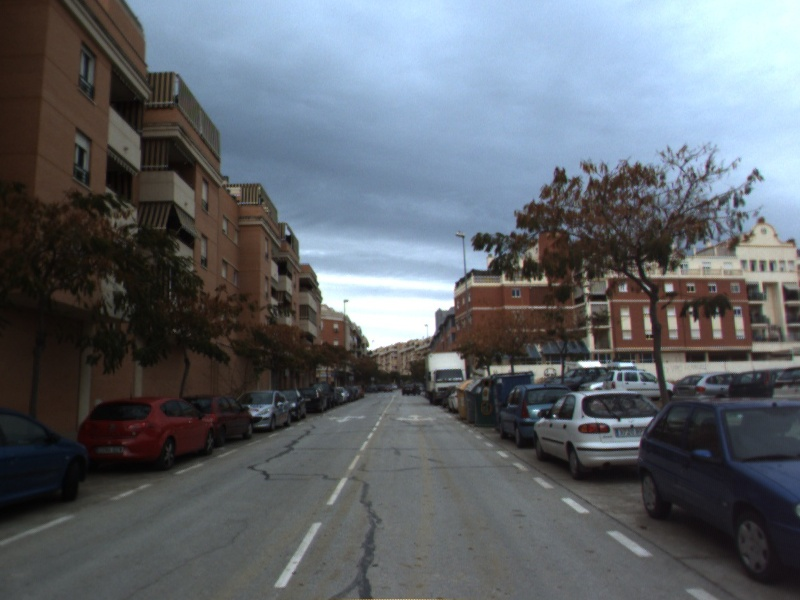STRAIGHT_LEFT_RIGHT: (393, 410, 439, 424)
